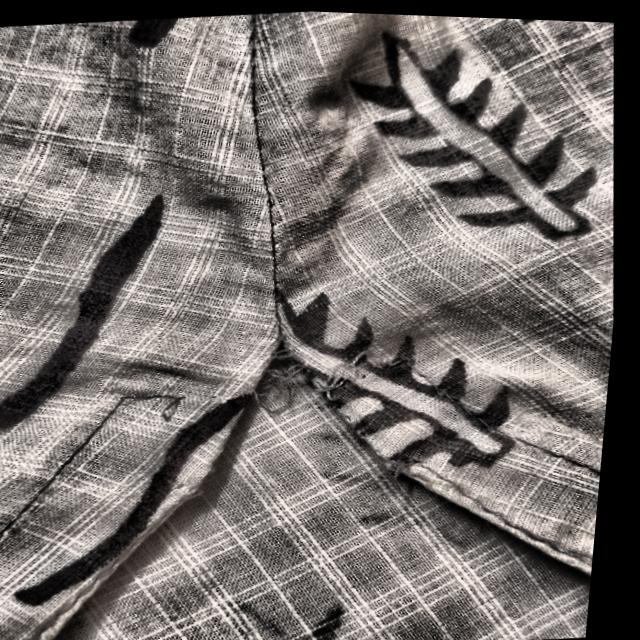Stitch: (249, 295, 500, 458), (40, 354, 249, 472)
